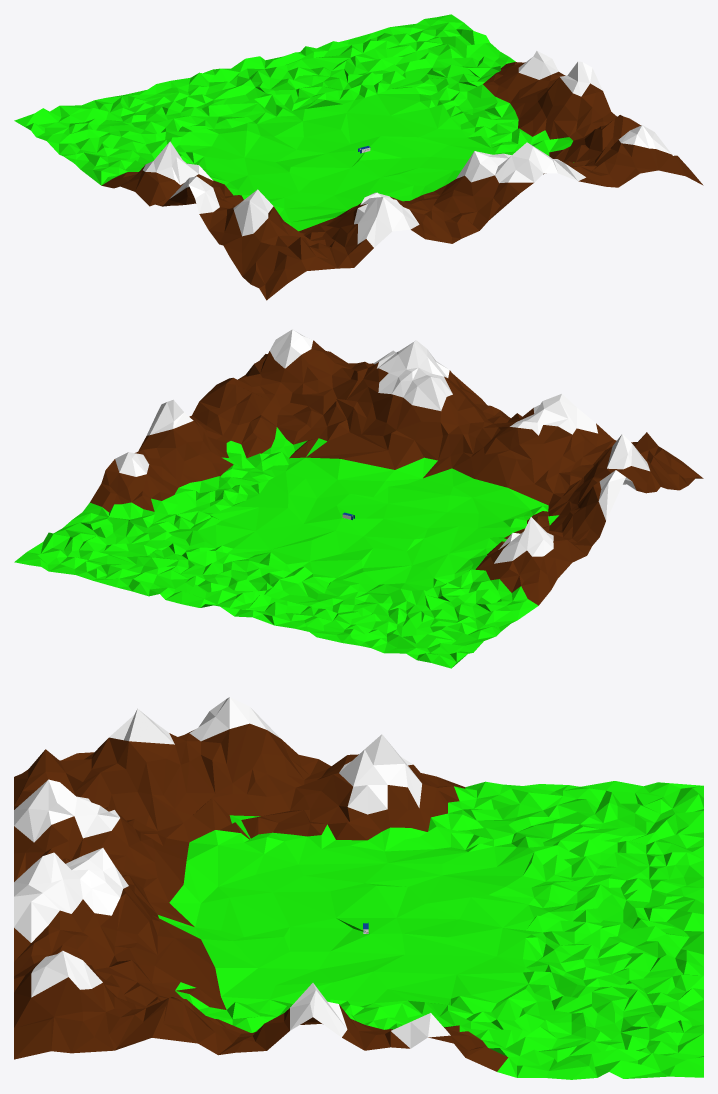
Rendered from EditorContainer.FBX.
3 views of the same model, one above another, from view 1: azimuth 30°, elevation 25°; view 2: azimuth 150°, elevation 25°; view 3: azimuth 270°, elevation 25° (orthographic). The views are drawn at different scales.
Parts seen in each view (by area): view 1: Plane001; view 2: Plane001; view 3: Plane001.
Boxes of the visible parts, bbox=[...] form: Plane001: bbox=[14, 14, 703, 300]; Plane001: bbox=[14, 329, 703, 668]; Plane001: bbox=[14, 697, 703, 1079].
Size of the model in its own units: 300 by 300 by 57.24.
